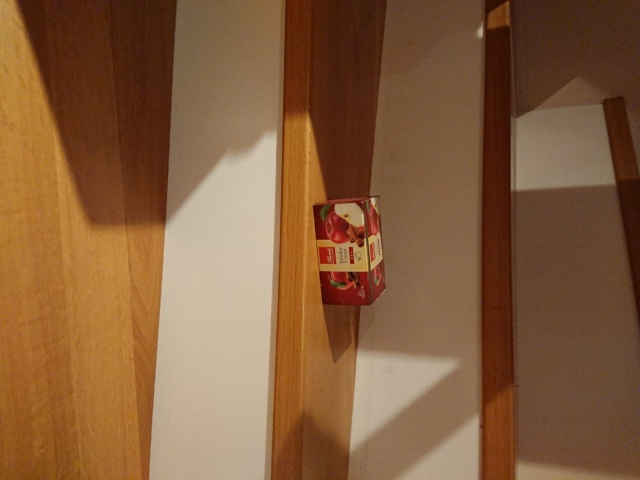Franck Apple Cinnamon Tea 60g: (309, 192, 389, 309)
